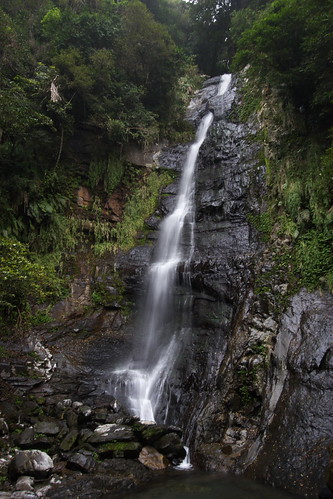wufengciWaterfall: (104, 55, 263, 440)
